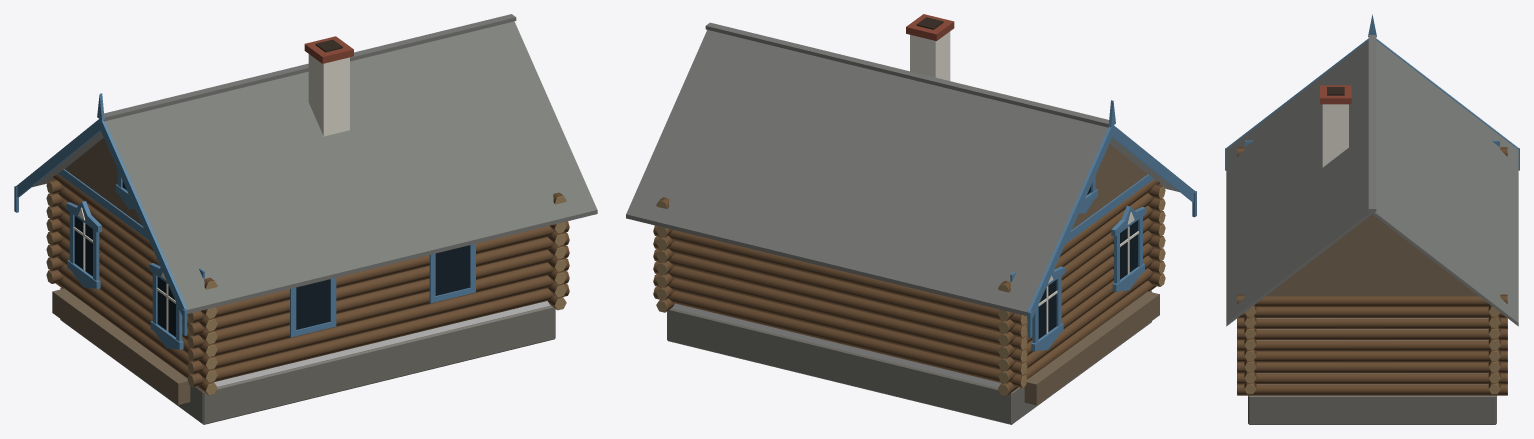
Rendered from izba-srub-4.glb.
3 renders of one model, left to right at view 1: azimuth 30°, elevation 25°; view 2: azimuth 150°, elevation 25°; view 3: azimuth 270°, elevation 25°, orthographic. The views are drawn at different scales.
Visible parts, largest first — view 1: 05_paint2, 02_paint1, 00_#77756e, 06_paint0, 04_#7a6a56, 07_#1c2630, 08_#e6e2d6, 03_#a08660, solid, 09_#8a4a3a; view 2: 05_paint2, 02_paint1, 00_#77756e, 06_paint0, 04_#7a6a56, 03_#a08660, 08_#e6e2d6, solid, 07_#1c2630, 09_#8a4a3a; view 3: 05_paint2, 02_paint1, 04_#7a6a56, 00_#77756e, 03_#a08660, 08_#e6e2d6, solid, 06_paint0, 09_#8a4a3a.
Part boxes in pixels (x1,y1,x2,y2): 05_paint2: [32, 14, 597, 313]; 02_paint1: [48, 174, 569, 394]; 00_#77756e: [60, 288, 555, 424]; 06_paint0: [14, 93, 475, 349]; 04_#7a6a56: [52, 138, 190, 404]; 07_#1c2630: [74, 181, 469, 337]; 08_#e6e2d6: [73, 54, 349, 331]; 03_#a08660: [46, 181, 569, 395]; solid: [214, 301, 550, 386]; 09_#8a4a3a: [304, 36, 353, 63]; 05_paint2: [626, 22, 1179, 316]; 02_paint1: [653, 179, 1163, 395]; 00_#77756e: [667, 290, 1151, 424]; 06_paint0: [1010, 100, 1196, 351]; 04_#7a6a56: [1024, 143, 1159, 405]; 03_#a08660: [653, 186, 1165, 395]; 08_#e6e2d6: [910, 31, 1138, 333]; solid: [672, 303, 1001, 387]; 07_#1c2630: [1038, 186, 1137, 338]; 09_#8a4a3a: [906, 14, 954, 40]; 05_paint2: [1226, 35, 1518, 326]; 02_paint1: [1237, 147, 1507, 395]; 04_#7a6a56: [1266, 214, 1478, 296]; 00_#77756e: [1248, 395, 1496, 424]; 03_#a08660: [1237, 147, 1507, 394]; 08_#e6e2d6: [1322, 104, 1348, 167]; solid: [1256, 318, 1488, 384]; 06_paint0: [1225, 14, 1519, 170]; 09_#8a4a3a: [1320, 85, 1351, 104].
Size of the model in its own units: 9.5 by 6.58 by 6.76.
